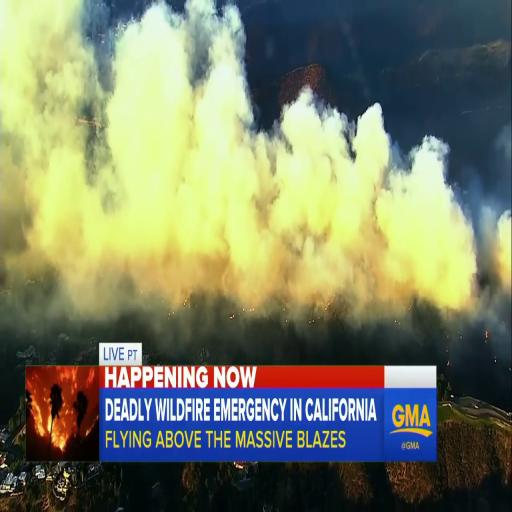smoke: (0, 1, 511, 338), (109, 0, 318, 314), (326, 112, 510, 324), (0, 7, 102, 254)
